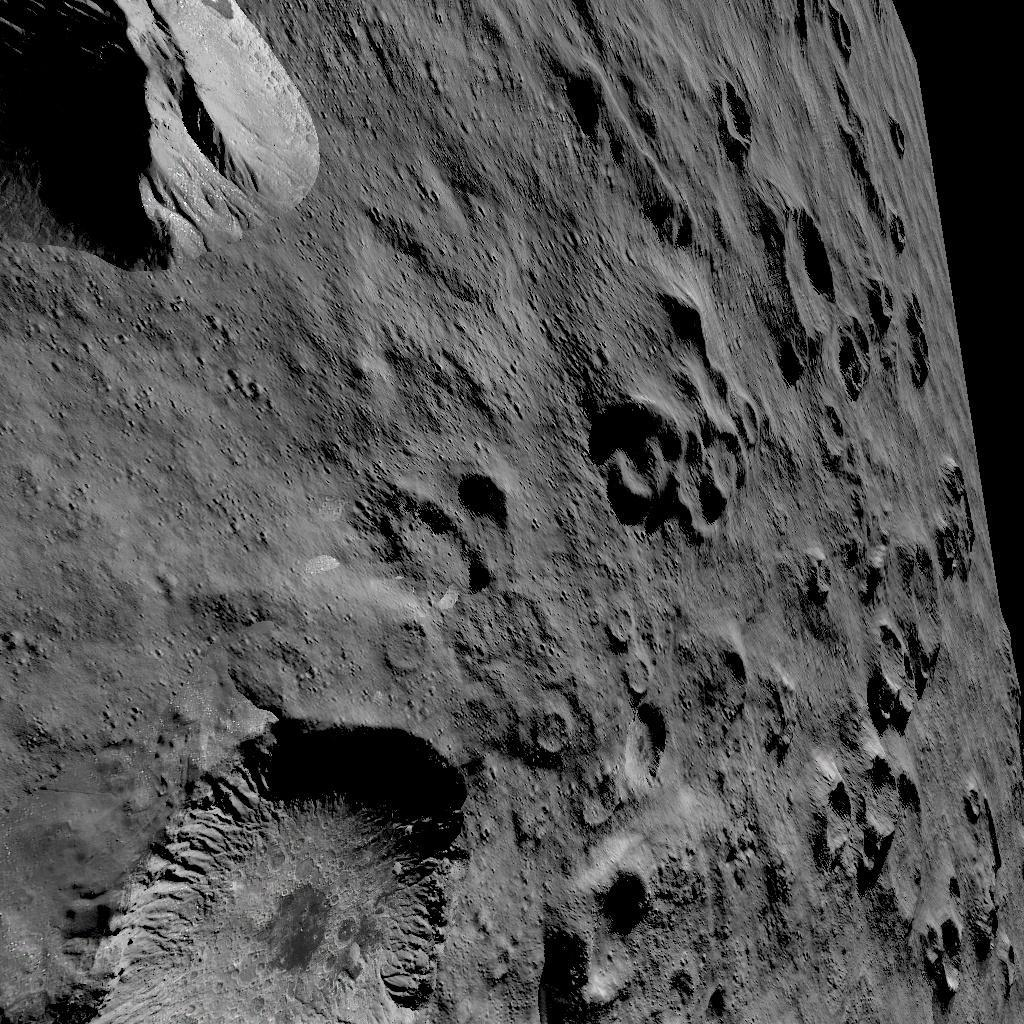Boulders: (0, 0, 344, 290)
Crater: (0, 718, 514, 1024), (811, 465, 1024, 737), (827, 748, 1024, 1008), (595, 392, 797, 544), (365, 472, 536, 600), (537, 864, 655, 1016), (859, 270, 959, 410), (771, 204, 848, 380), (613, 606, 674, 708), (714, 70, 766, 162), (814, 0, 880, 65), (393, 614, 448, 680), (543, 710, 589, 766), (895, 202, 935, 256), (880, 108, 920, 158)
Plan surface: (3, 298, 354, 706), (365, 0, 584, 455)
